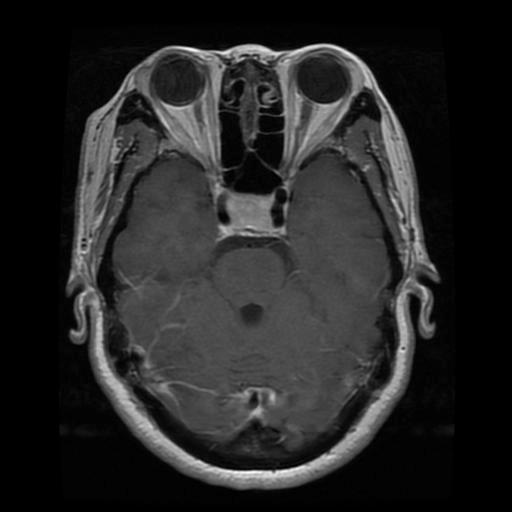Tumour-Pituitary: (210, 186, 298, 248)
